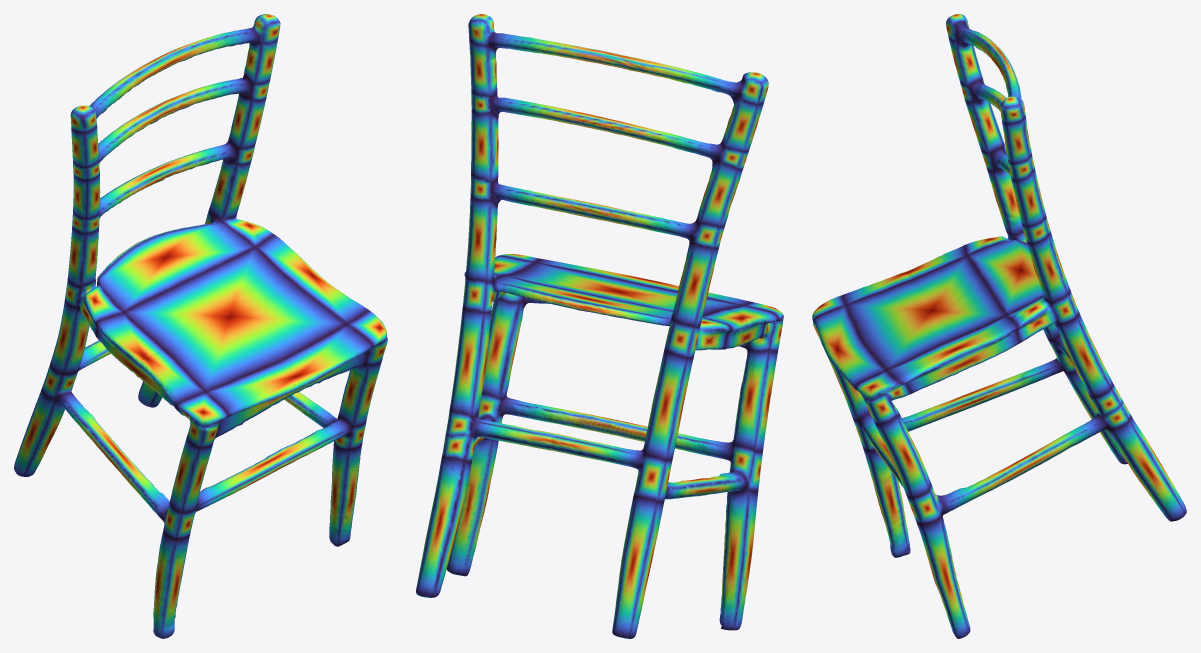
Rendered from gen2.glb.
3 renders of one model, left to right at view 1: azimuth 30°, elevation 25°; view 2: azimuth 150°, elevation 25°; view 3: azimuth 270°, elevation 25°, orthographic. The views are drawn at different scales.
Visible parts, largest first — view 1: Node; view 2: Node; view 3: Node.
Boxes of the visible parts, x1=… form: Node: x1=14, y1=14, x2=387, y2=638; Node: x1=416, y1=14, x2=783, y2=638; Node: x1=812, y1=14, x2=1186, y2=638.
Bounding box in the file's own units: 311 × 576 × 365.
Materials: 1 (1 with a texture image).
